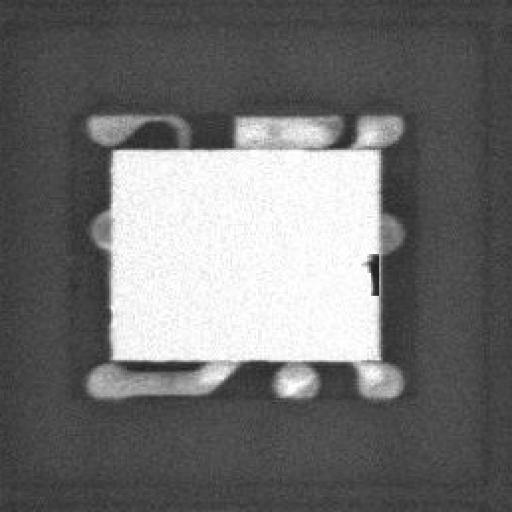DIE_BROKEN: (357, 248, 381, 292)
